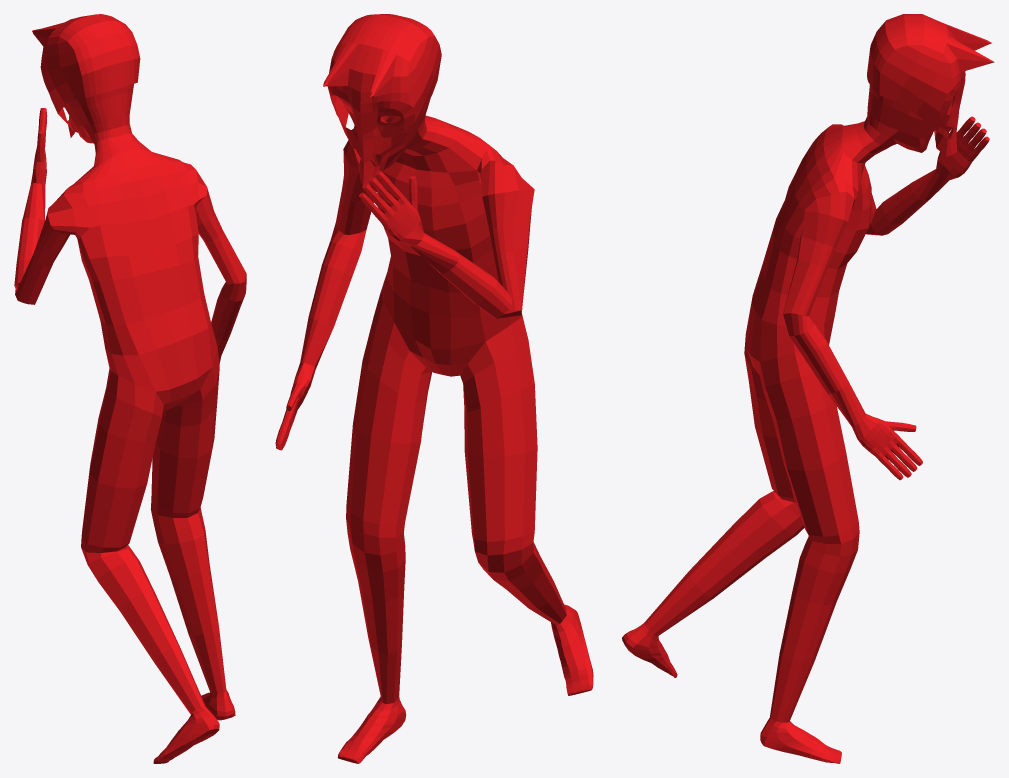
File: correrE_000100.obj
The picture shows the model from 3 angles, left to right: view 1: azimuth 30°, elevation 25°; view 2: azimuth 150°, elevation 25°; view 3: azimuth 270°, elevation 25°; orthographic projection. The views are drawn at different scales.
Parts seen in each view (by area): view 1: Plane.002_Plane.001; view 2: Plane.002_Plane.001; view 3: Plane.002_Plane.001.
Boxes of the visible parts, <box> form: Plane.002_Plane.001: <box>14,14,246,763</box>; Plane.002_Plane.001: <box>275,14,593,763</box>; Plane.002_Plane.001: <box>622,14,994,763</box>.
Bounding box in the file's own units: 2.08 × 6.76 × 3.25.
